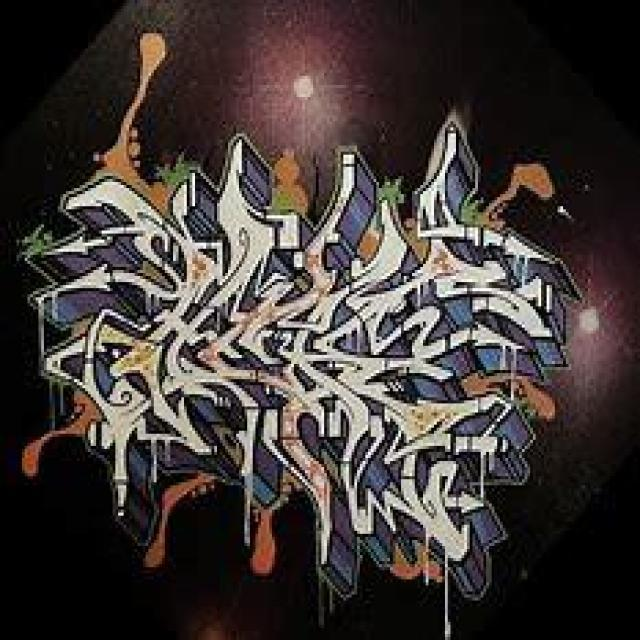nonspitting: (19, 27, 580, 609)
